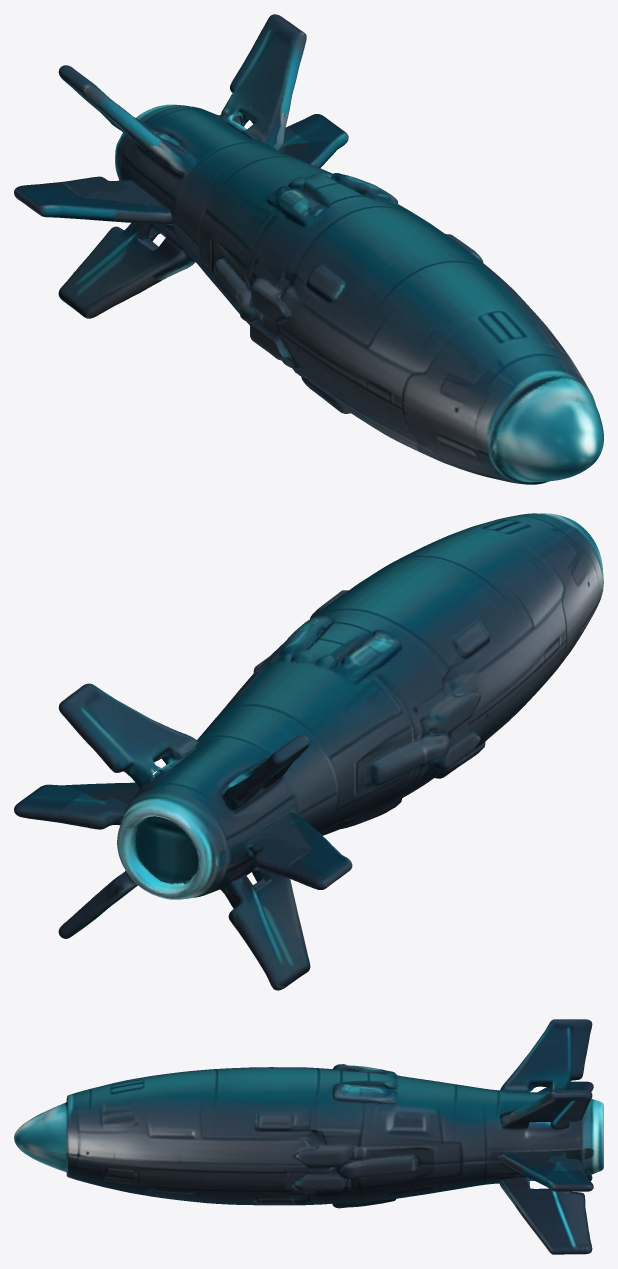
The model's file is torpedo.glb.
The picture shows the model from 3 angles, top to bottom: view 1: azimuth 30°, elevation 25°; view 2: azimuth 150°, elevation 25°; view 3: azimuth 270°, elevation 25°; orthographic projection. The views are drawn at different scales.
Visible parts, largest first — view 1: geometry_0; view 2: geometry_0; view 3: geometry_0.
Boxes of the visible parts, <box> form: geometry_0: <box>14,14,603,484</box>; geometry_0: <box>14,513,603,990</box>; geometry_0: <box>14,1019,603,1254</box>.
Bounding box in the file's own units: 3.5 × 2.54 × 8.31.
1 material, 1 textured.
